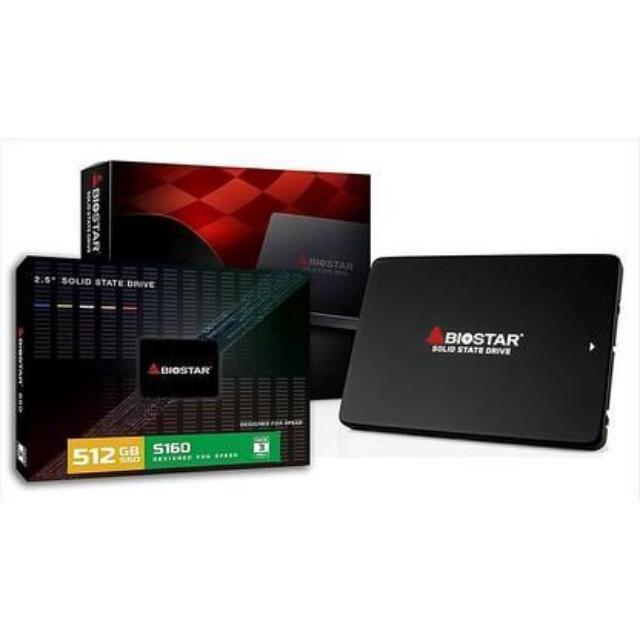DISK: (336, 252, 627, 460)
